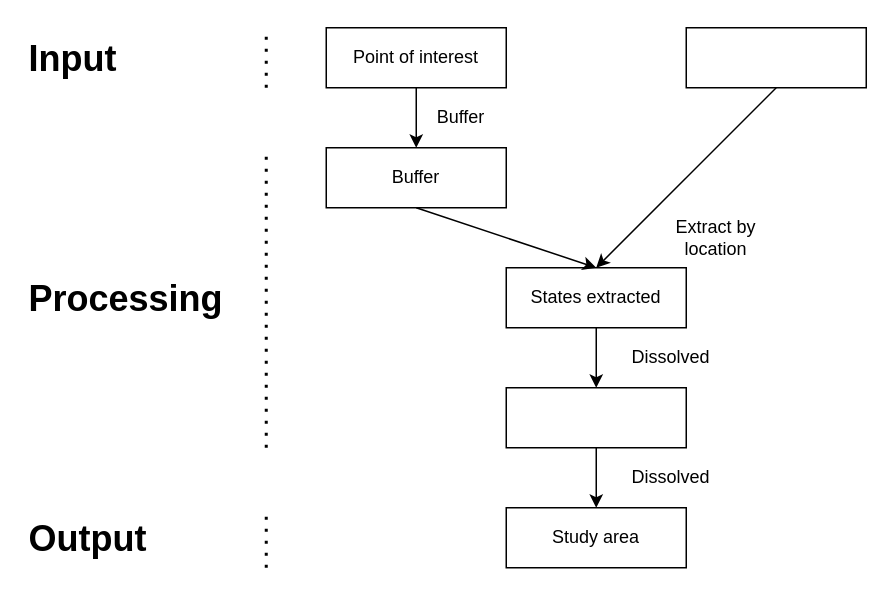
Image size: 893x597. Some labels were removed from this diagram. The centre of each missing label's shape, as x and y in pixels:
Countries: point (595, 417)
States: point (775, 57)
